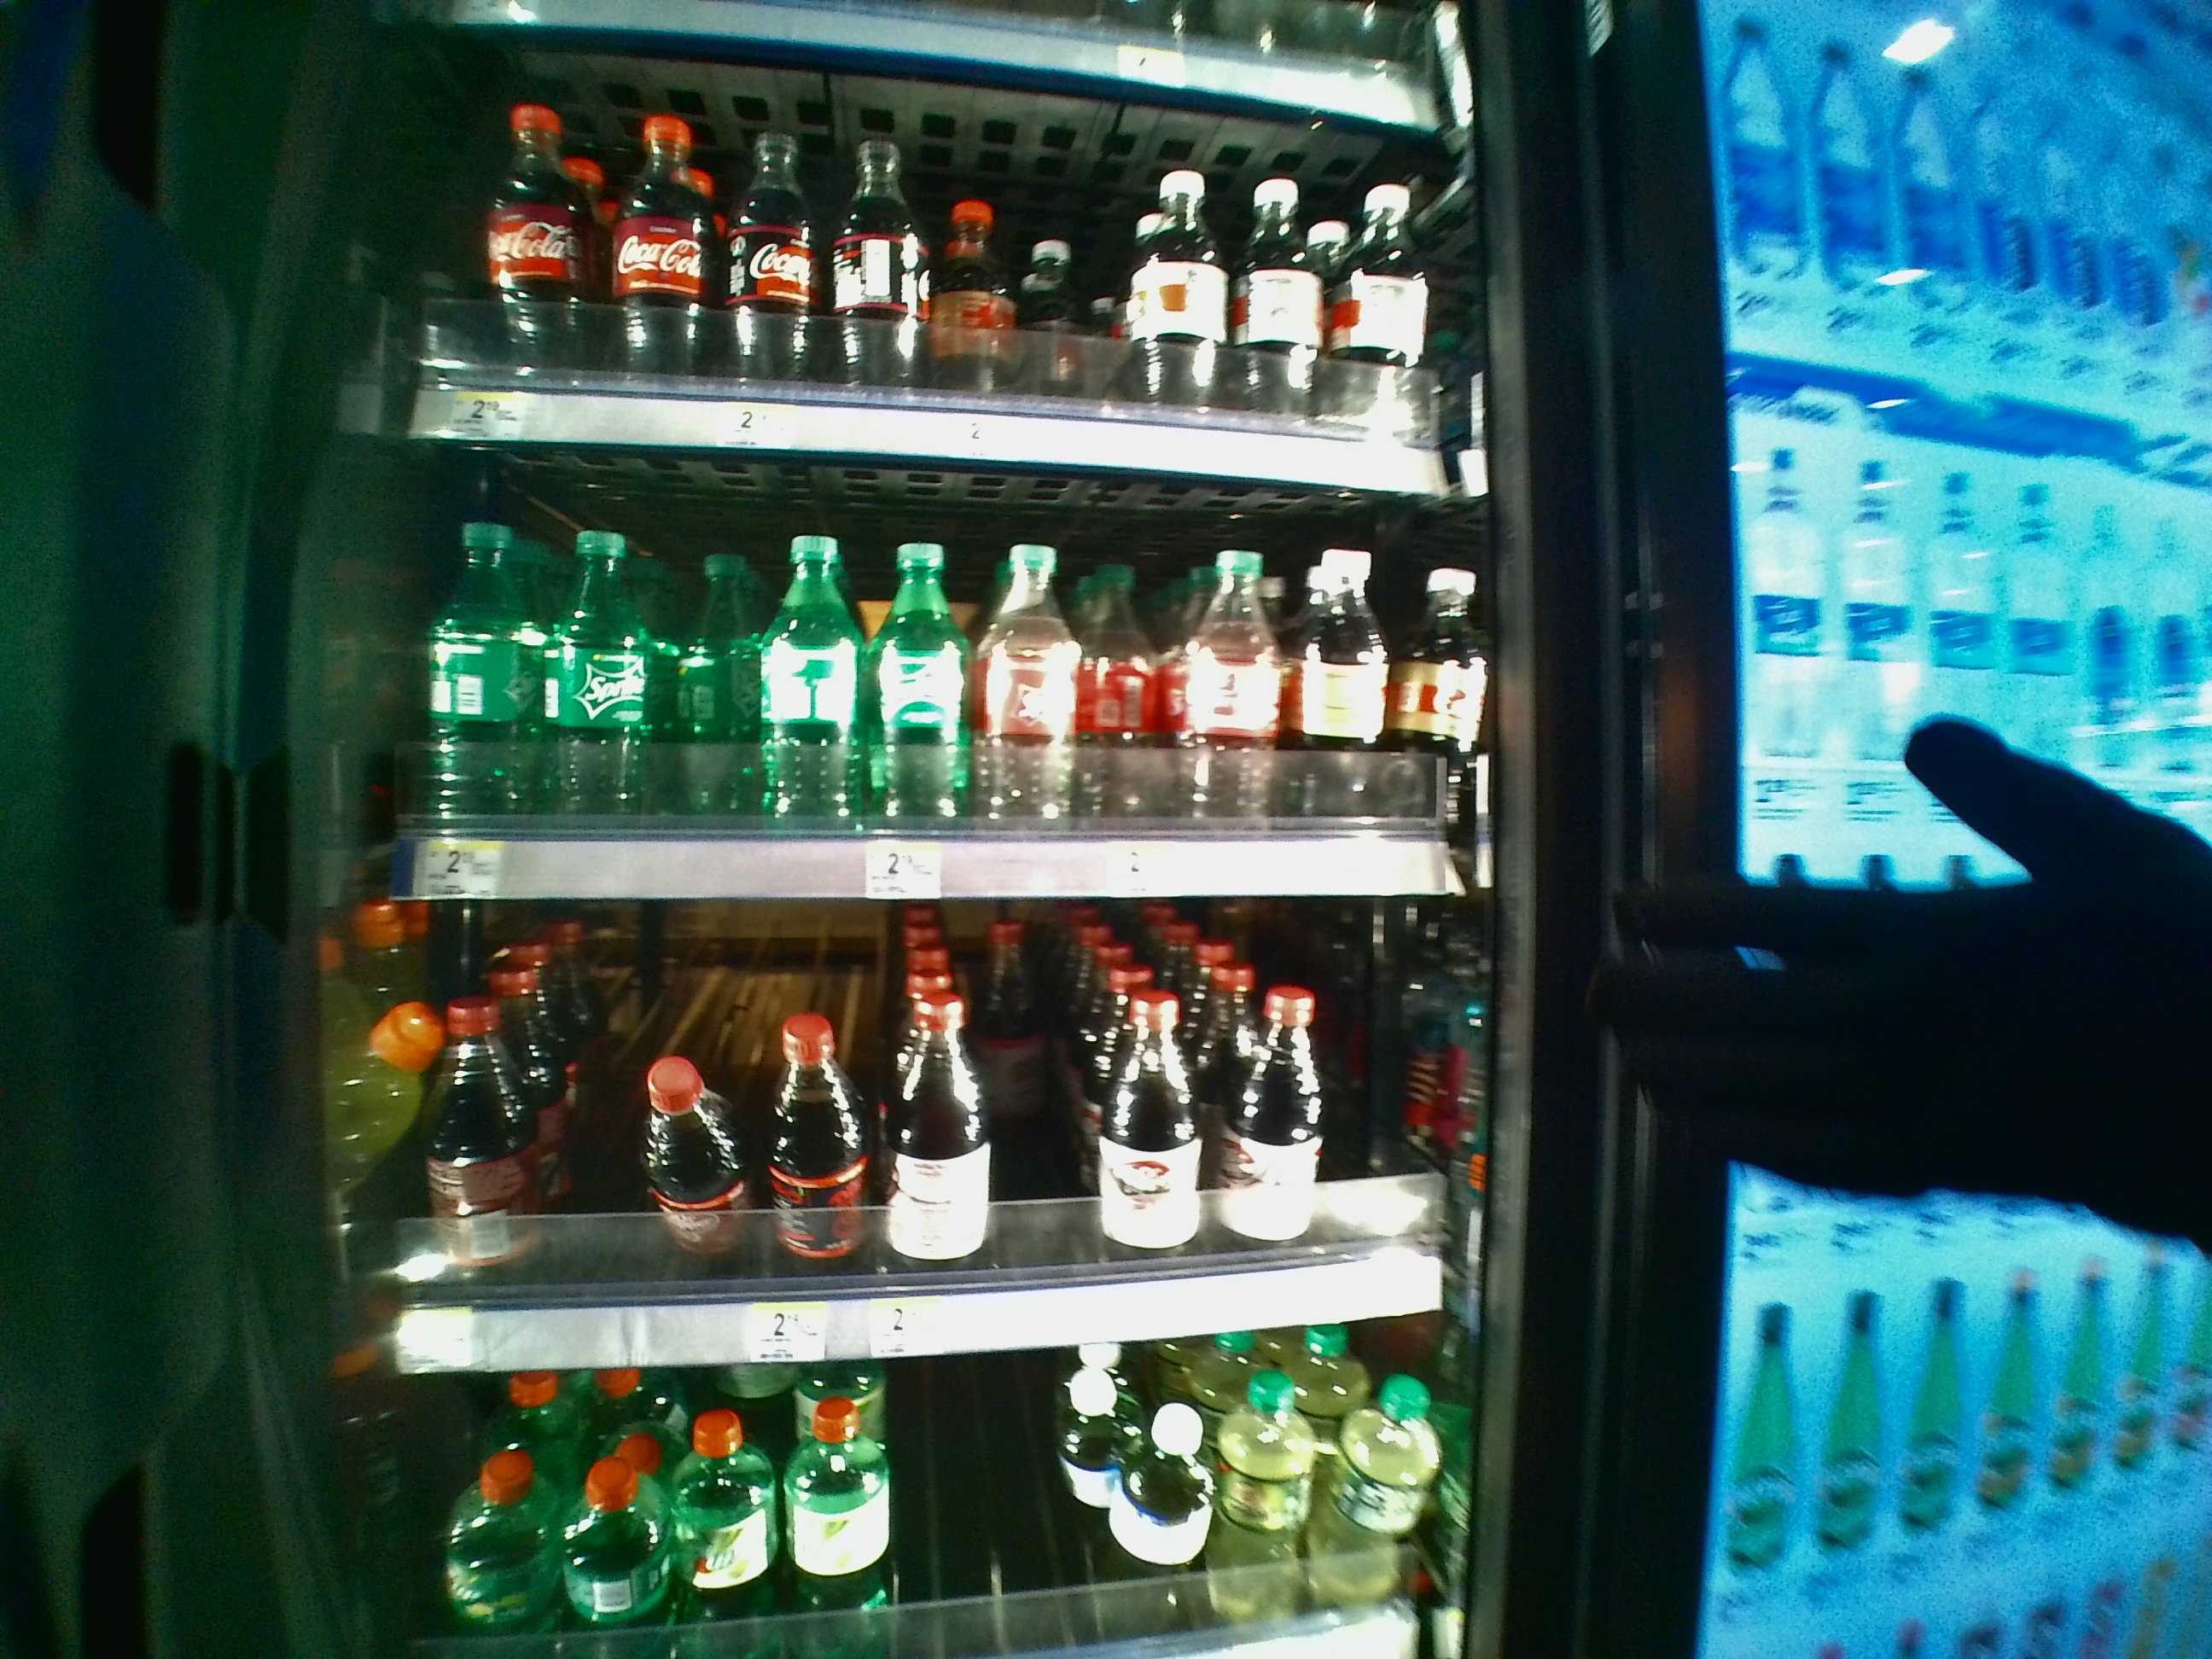Shelf: (374, 437, 1501, 908), (376, 913, 1508, 1373)
